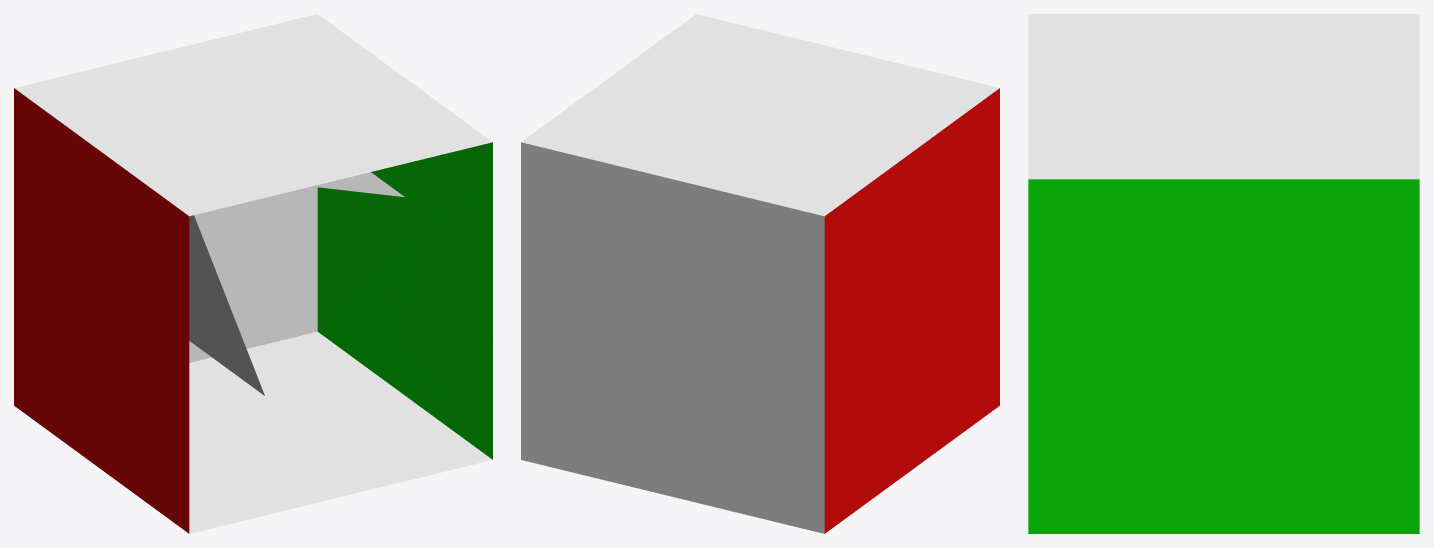
The model's file is my_Cornell_Box_portals_x2.obj.
The picture shows the model from 3 angles, left to right: view 1: azimuth 30°, elevation 25°; view 2: azimuth 150°, elevation 25°; view 3: azimuth 270°, elevation 25°; orthographic projection. The views are drawn at different scales.
Visible parts, largest first — view 1: Plane.004, Plane, Plane.003, Plane.001, Plane.002, Portal_we_1, Portal_we_2, Portal_wy_2; view 2: Plane.002, Plane.004, Plane; view 3: Plane.003, Plane.
Part boxes in pixels (x1=…): Plane.004: x1=14, y1=88, x2=189, y2=533; Plane: x1=14, y1=14, x2=492, y2=216; Plane.003: x1=317, y1=142, x2=492, y2=459; Plane.001: x1=189, y1=331, x2=492, y2=533; Plane.002: x1=189, y1=186, x2=317, y2=362; Portal_we_1: x1=204, y1=212, x2=316, y2=313; Portal_we_2: x1=189, y1=215, x2=264, y2=395; Portal_wy_2: x1=312, y1=172, x2=404, y2=197; Plane.002: x1=521, y1=142, x2=824, y2=533; Plane.004: x1=824, y1=88, x2=999, y2=533; Plane: x1=521, y1=14, x2=999, y2=216; Plane.003: x1=1028, y1=179, x2=1419, y2=533; Plane: x1=1028, y1=14, x2=1419, y2=179.
Size of the model in its own units: 400 by 400 by 400.
